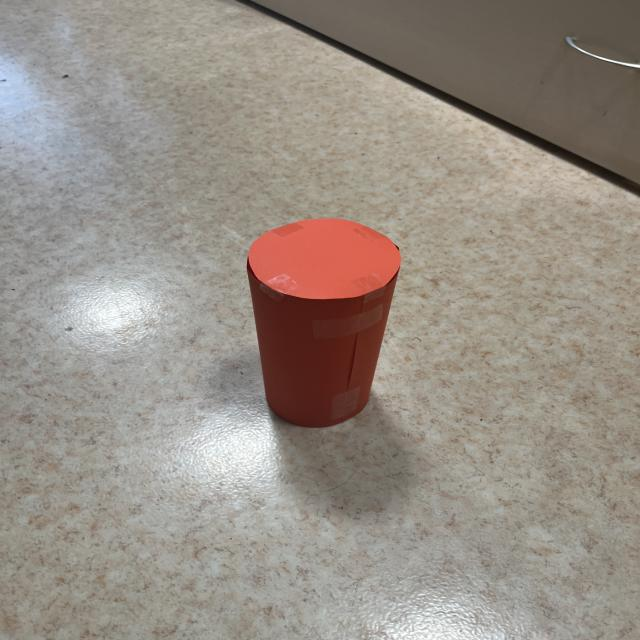przeszkoda: (247, 219, 401, 427)
